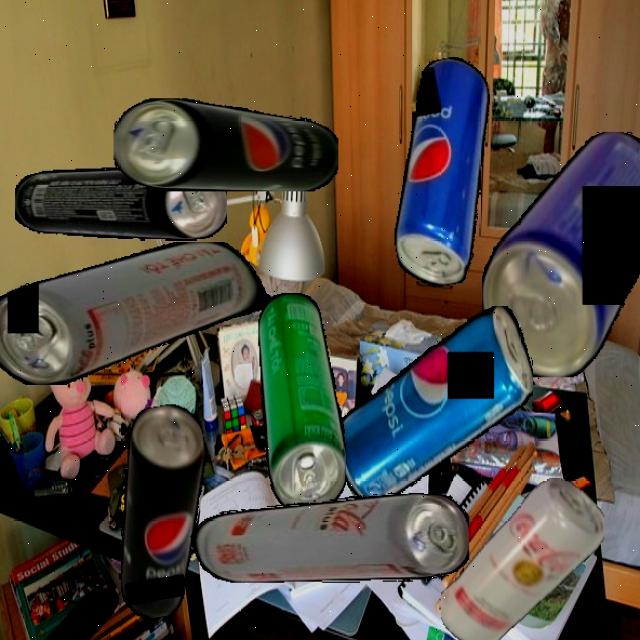debris: (0, 241, 274, 385), (337, 305, 533, 505), (481, 131, 640, 377), (365, 53, 520, 292), (92, 400, 232, 623), (438, 477, 604, 640), (187, 493, 469, 583), (114, 98, 338, 192), (257, 292, 346, 511), (14, 166, 227, 240)
